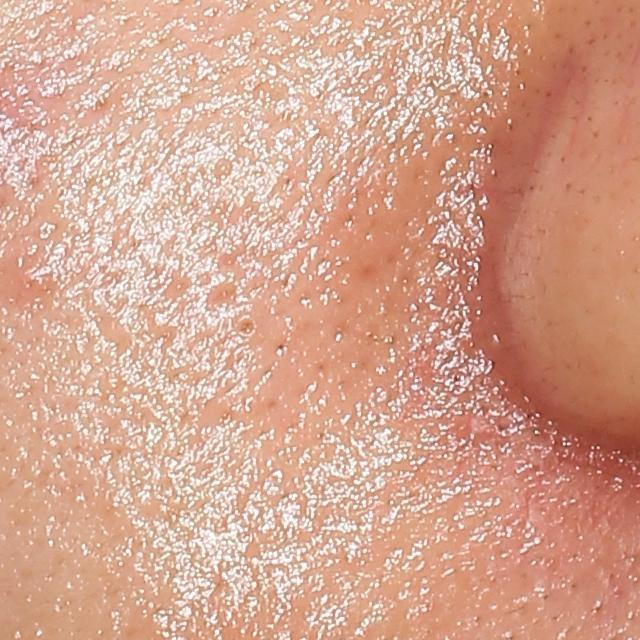comedo: (224, 311, 264, 346)
